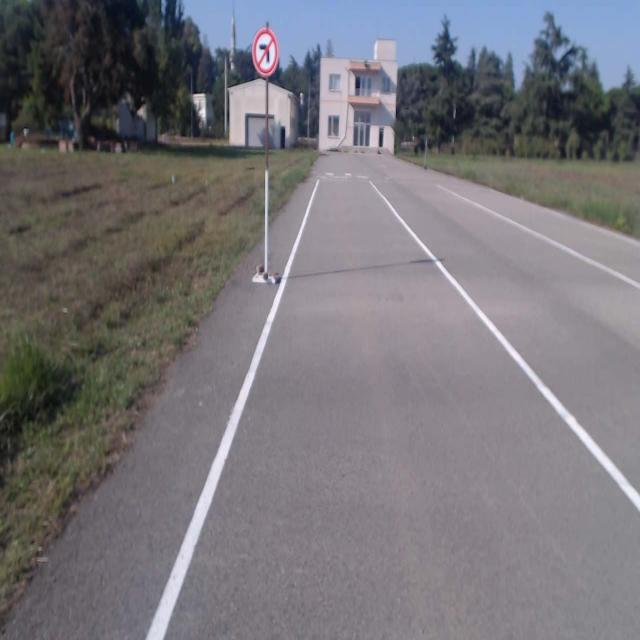soladonulmez: (252, 30, 278, 74)
